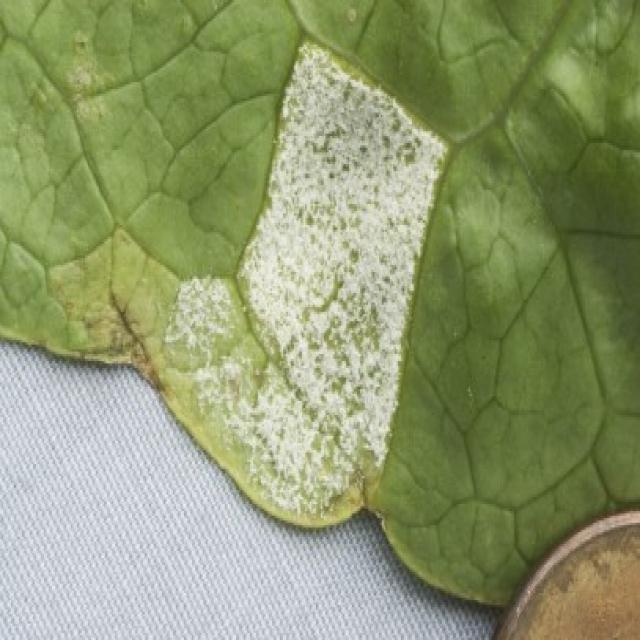Powdery_mildew_on_lettuce: (223, 22, 458, 479)
